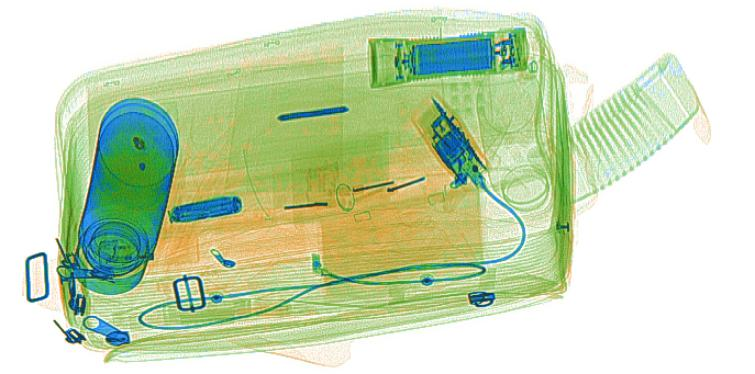battery: (408, 38, 497, 75)
knife: (167, 196, 242, 223)
